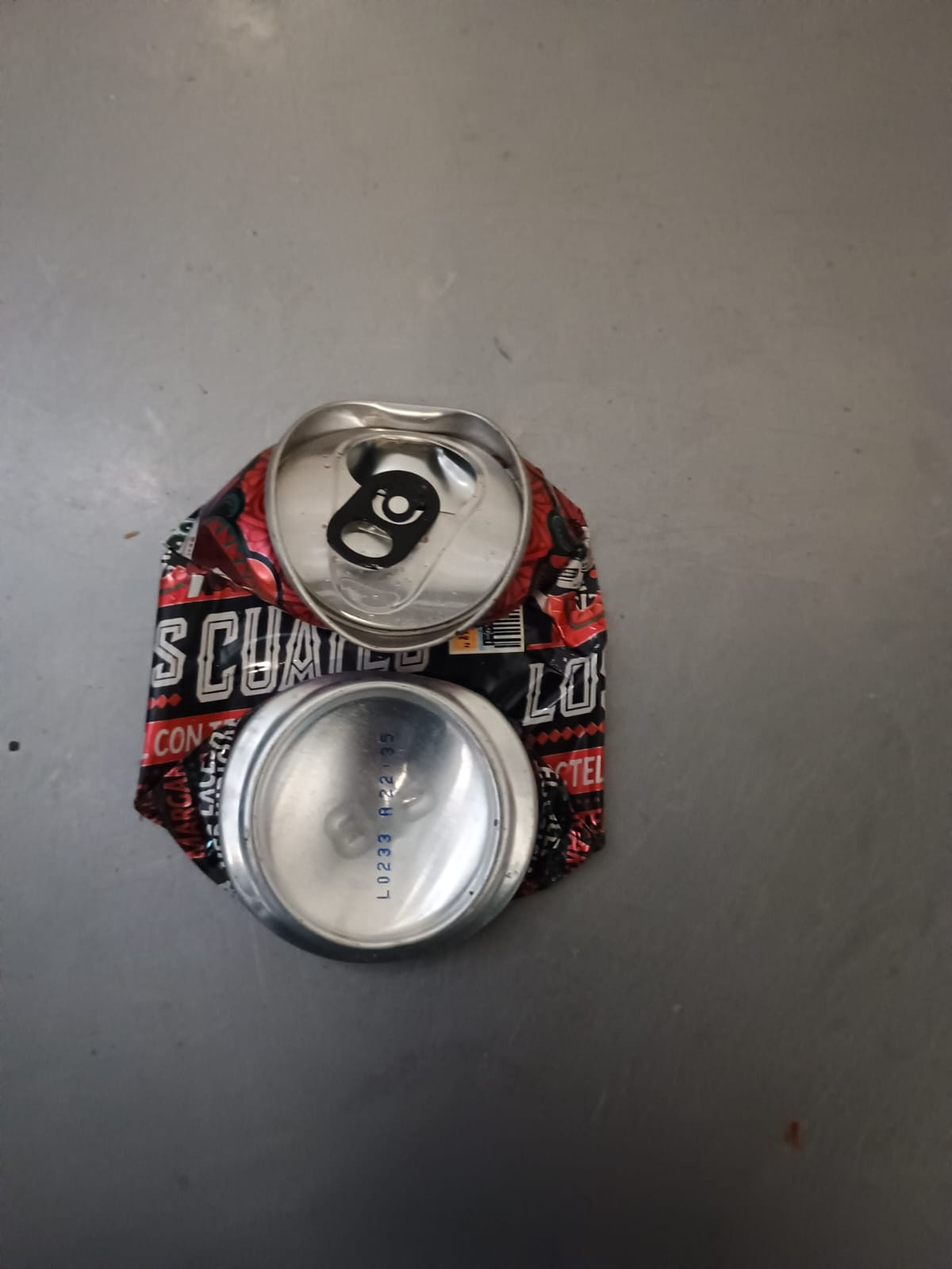Metal: (133, 398, 613, 963)
